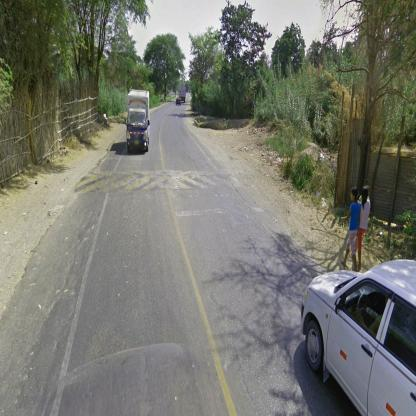Peaton: (339, 188, 362, 273), (352, 187, 372, 271)
Pista: (1, 99, 369, 325)
Vehiculo: (301, 259, 416, 414), (126, 89, 151, 154), (180, 84, 187, 106), (177, 98, 182, 106)
